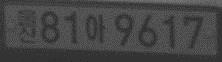1: (61, 8, 79, 47), (162, 14, 178, 49)
6: (136, 13, 157, 47)
7: (181, 13, 205, 49)
8: (40, 10, 59, 43)
9: (113, 12, 135, 47)
아: (84, 13, 106, 44)
울산_V: (15, 7, 38, 45)
